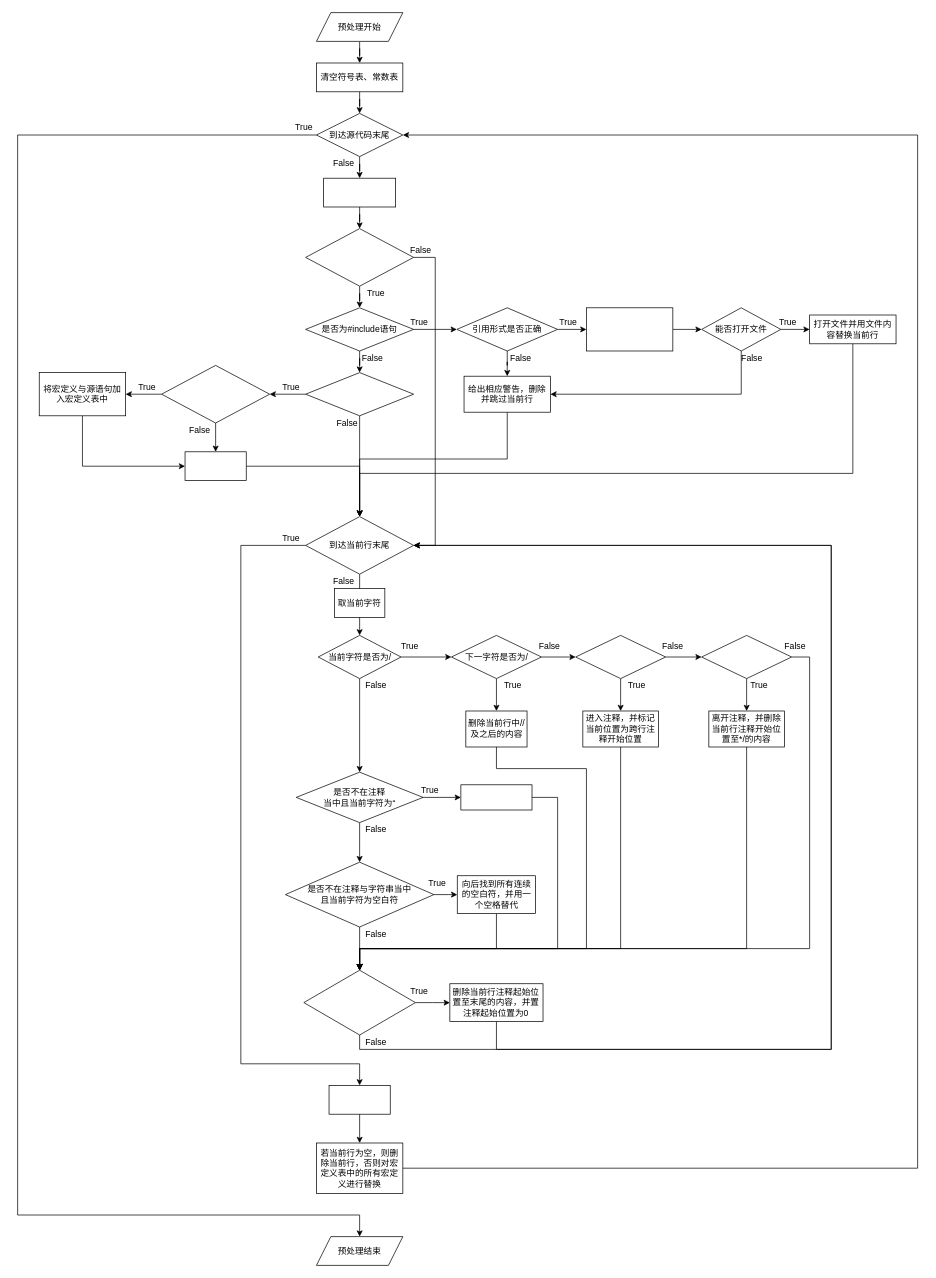
Image size: 936x1278. Some labels were removed from this diagram. Each missing label, with the box of its shape:
#define后是否 含宏定义与源语句: (161, 365, 270, 423)
下一字符是否为*: (575, 635, 666, 679)
删除当前行: (184, 451, 246, 481)
前一字符是否为*: (701, 635, 792, 679)
去除当前行前后的空白符: (328, 1085, 390, 1114)
取当前行并去除当前行前后的空白符: (323, 177, 396, 207)
取相对路径，与当前文件绝对路径拼接得到引用文件绝对路径: (586, 307, 673, 351)
是否为#define语句: (305, 372, 414, 416)
是否为不位于注 释与字符串当中: (305, 228, 414, 286)
是否位于注释中 且到达当前行末尾: (303, 969, 415, 1035)
进入/退出字符串: (460, 784, 532, 810)
